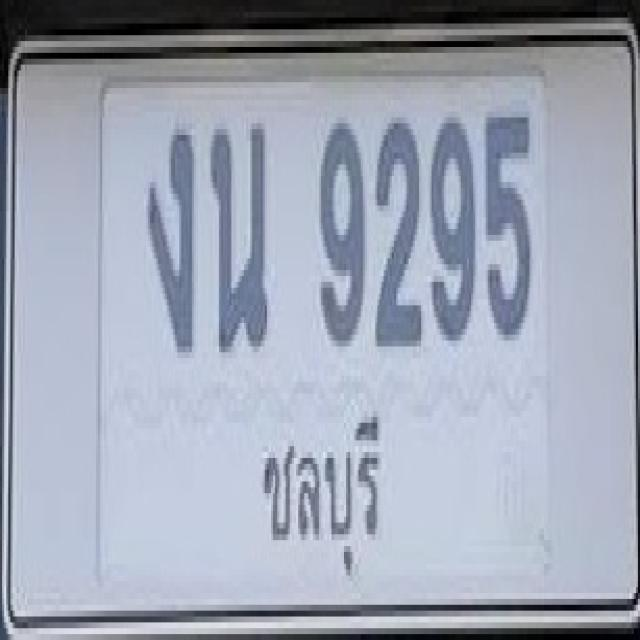license_plate: (4, 29, 640, 640)
